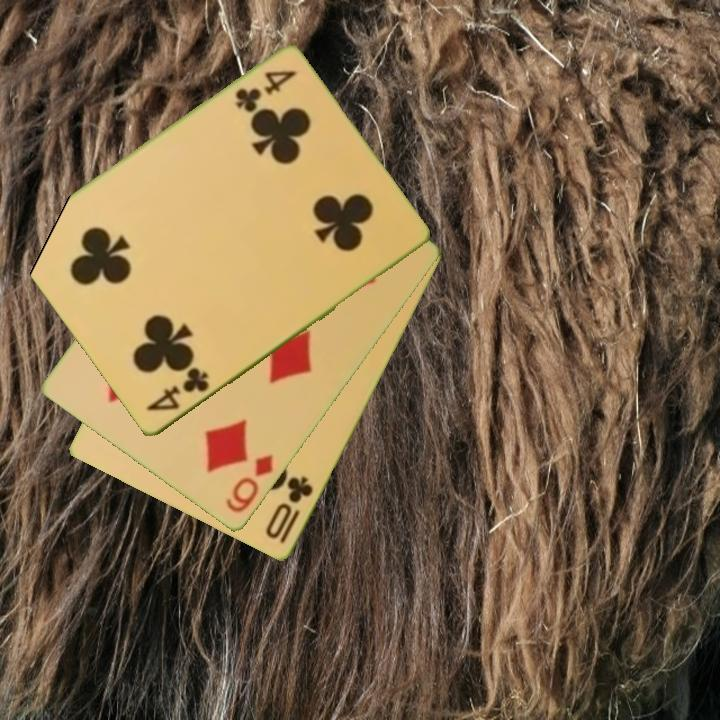10c: (262, 473, 316, 547)
4c: (143, 364, 212, 415), (231, 67, 299, 115)
6d: (222, 451, 277, 517)
